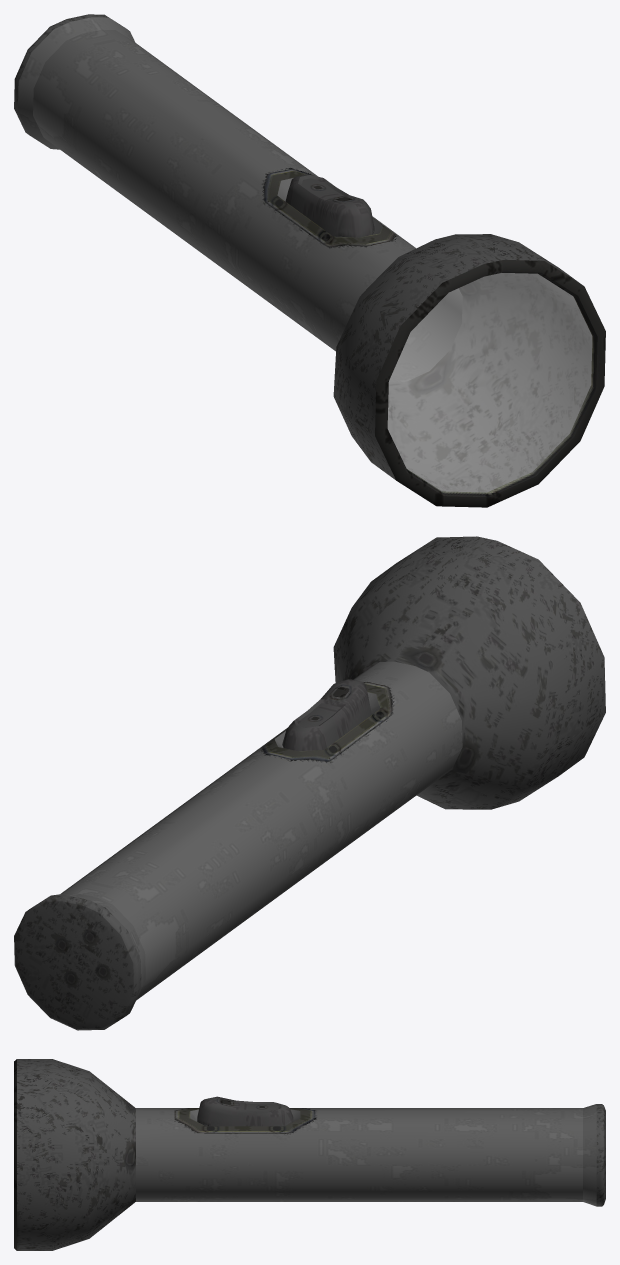
The model's file is flash_light_rayovac_style_1940s.glb.
3 views of the same model, one above another, from view 1: azimuth 30°, elevation 25°; view 2: azimuth 150°, elevation 25°; view 3: azimuth 270°, elevation 25° (orthographic). The views are drawn at different scales.
Parts seen in each view (by area): view 1: RayOVac Flashlight Mesh_RayOVac Flashlight handle Mat_0, RayOVac Flashlight Mesh_RayOVac Flashlight Glass_0; view 2: RayOVac Flashlight Mesh_RayOVac Flashlight handle Mat_0; view 3: RayOVac Flashlight Mesh_RayOVac Flashlight handle Mat_0.
Boxes of the visible parts, x1,y1,x2,y2 form: RayOVac Flashlight Mesh_RayOVac Flashlight handle Mat_0: (14, 14, 605, 507); RayOVac Flashlight Mesh_RayOVac Flashlight Glass_0: (388, 273, 591, 492); RayOVac Flashlight Mesh_RayOVac Flashlight handle Mat_0: (14, 536, 605, 1030); RayOVac Flashlight Mesh_RayOVac Flashlight handle Mat_0: (14, 1059, 605, 1250).
Size of the model in its own units: 9.71 by 9.82 by 30.55.
2 materials, 2 textured.
